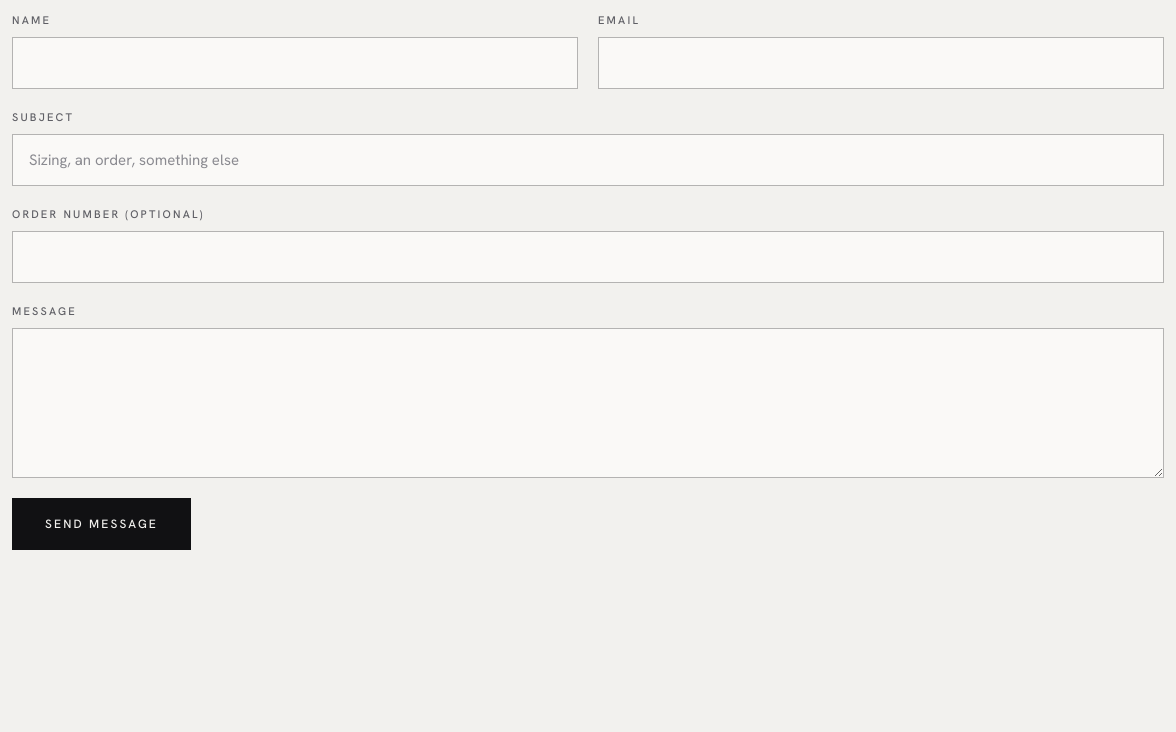
Test case: failure handling › alerts the visitor when the API rejects the message
The width and height of the screenshot is (1176, 732).
Type "Ada" into the field labelled "Name" at (295, 63), box [12, 36, 578, 89]
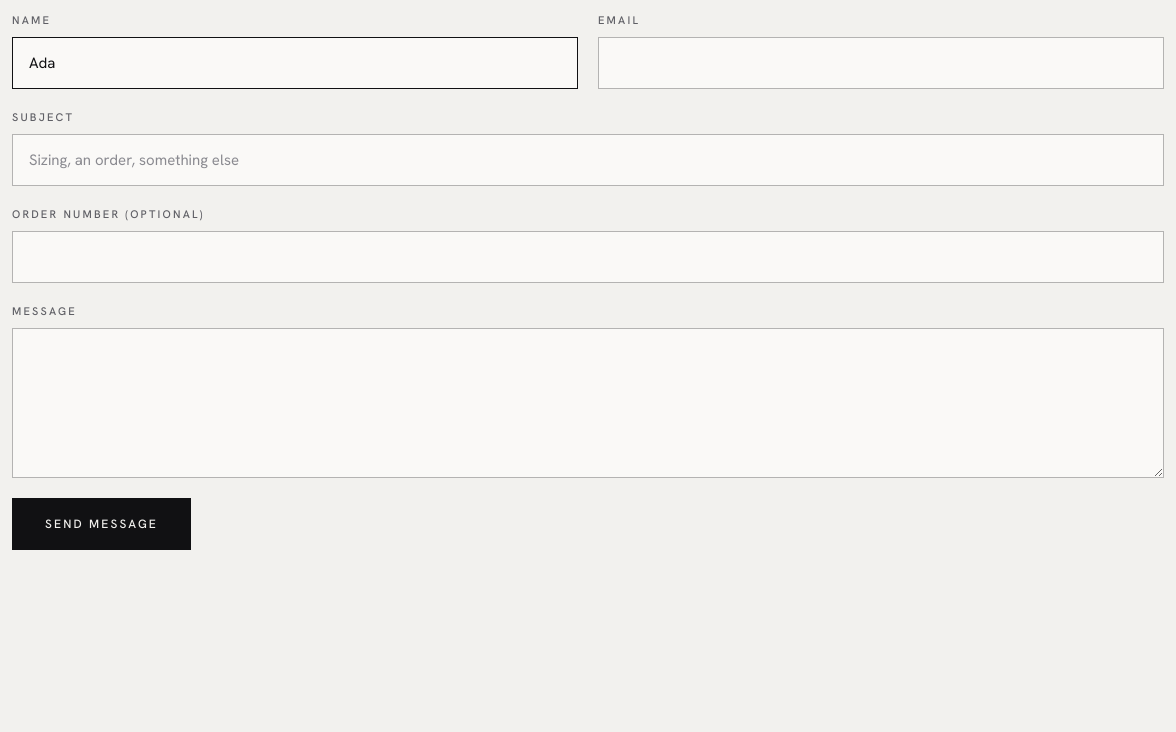
Type "ada@example.com" into the field labelled "Email" at (881, 63), box [598, 36, 1164, 89]
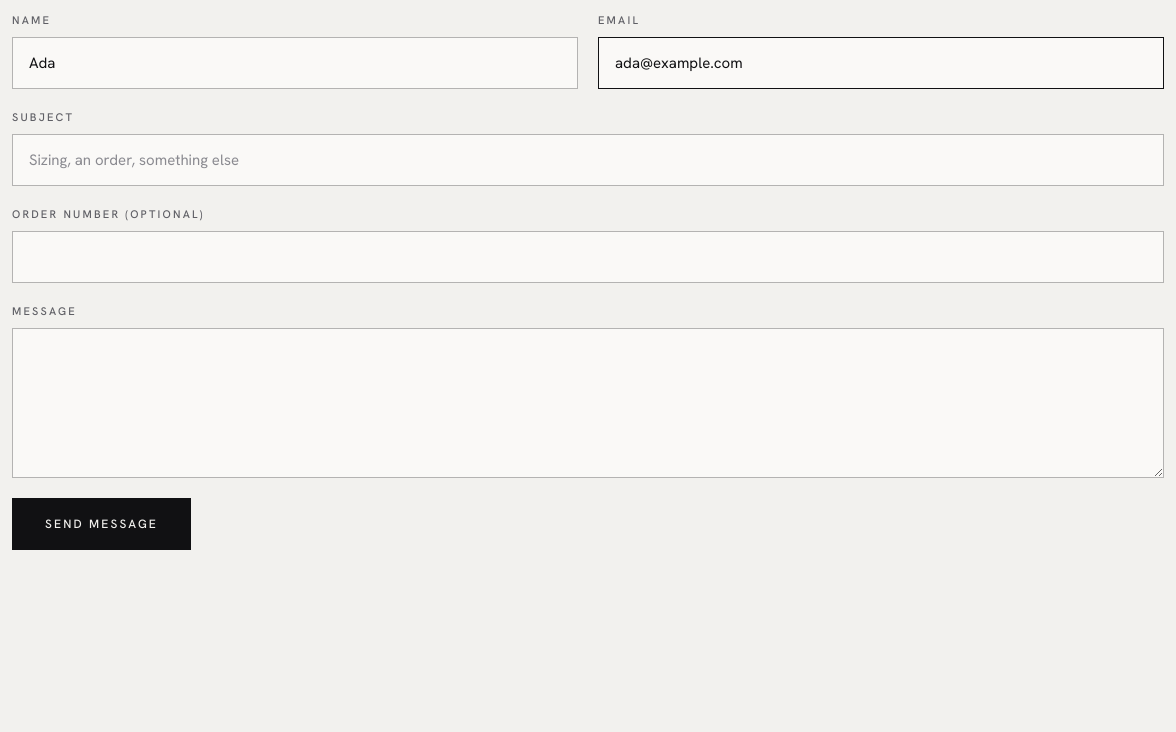
Type "Sizing" into the field labelled "Subject" at (588, 160), box [12, 134, 1164, 186]
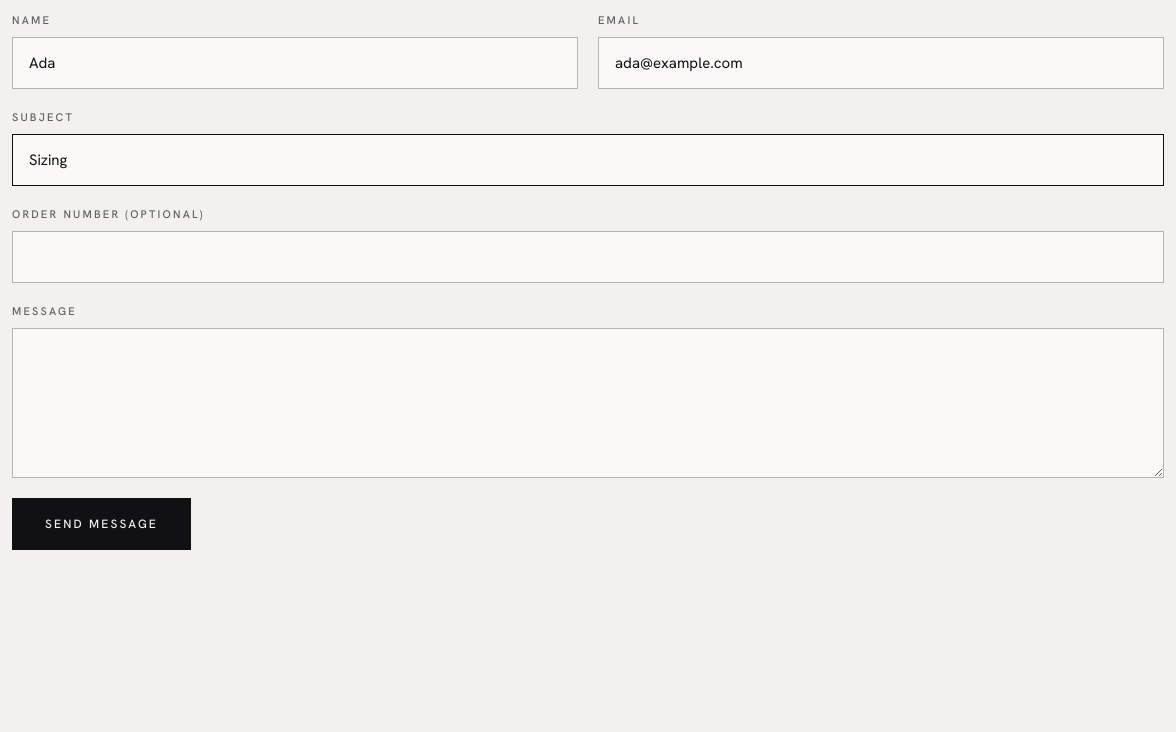
Type "A-1" into the field labelled "Order number (optional)" at (588, 257), box [12, 230, 1164, 283]
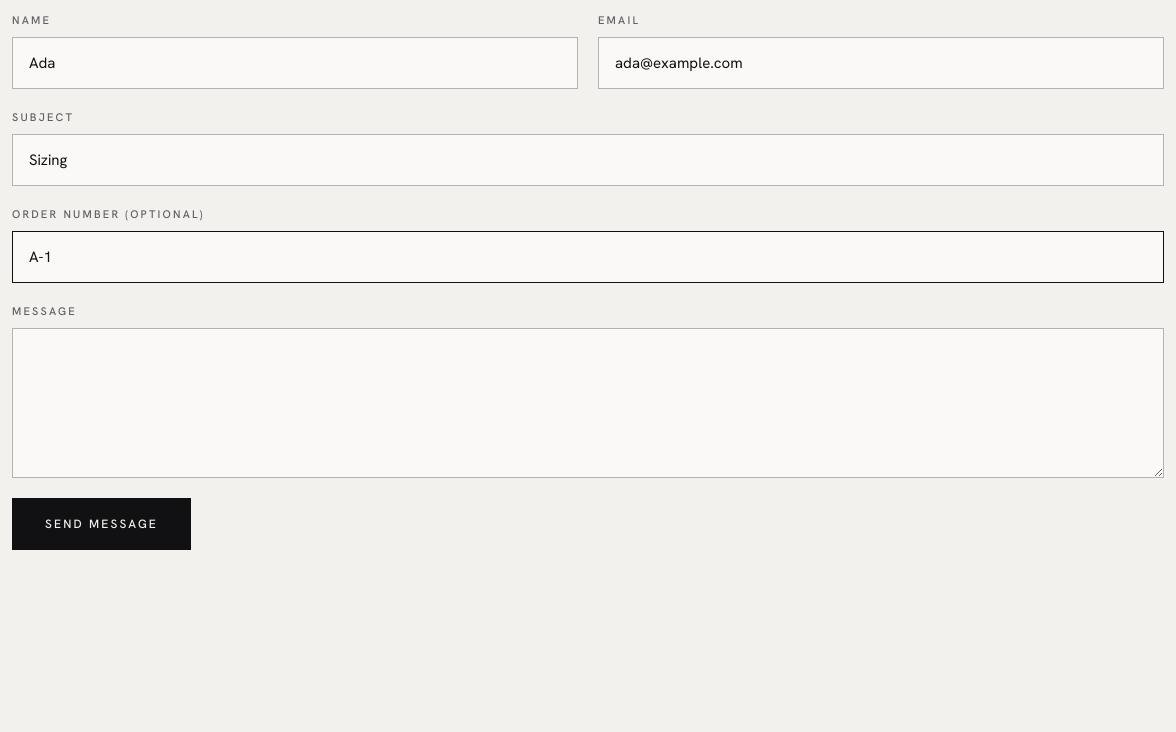
Type "Which size?" into the text box labelled "Message" at (588, 402), box [12, 328, 1164, 478]
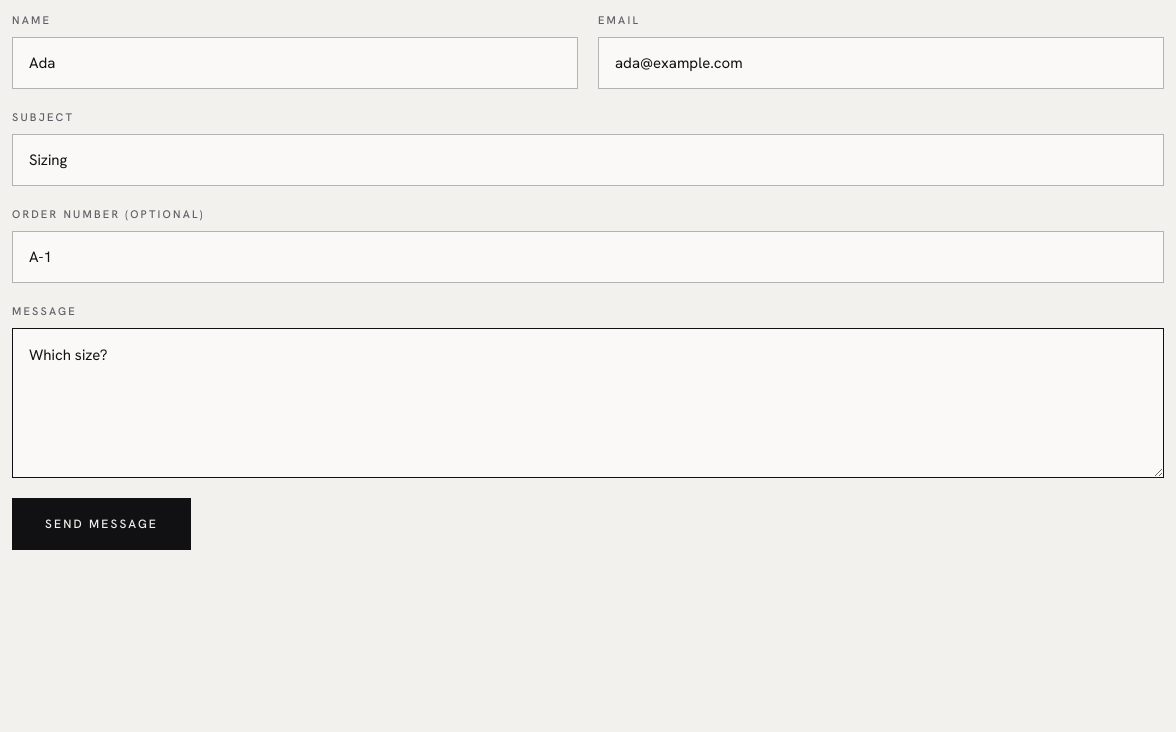
Click the button "Send message" at (102, 524), box [12, 498, 191, 550]
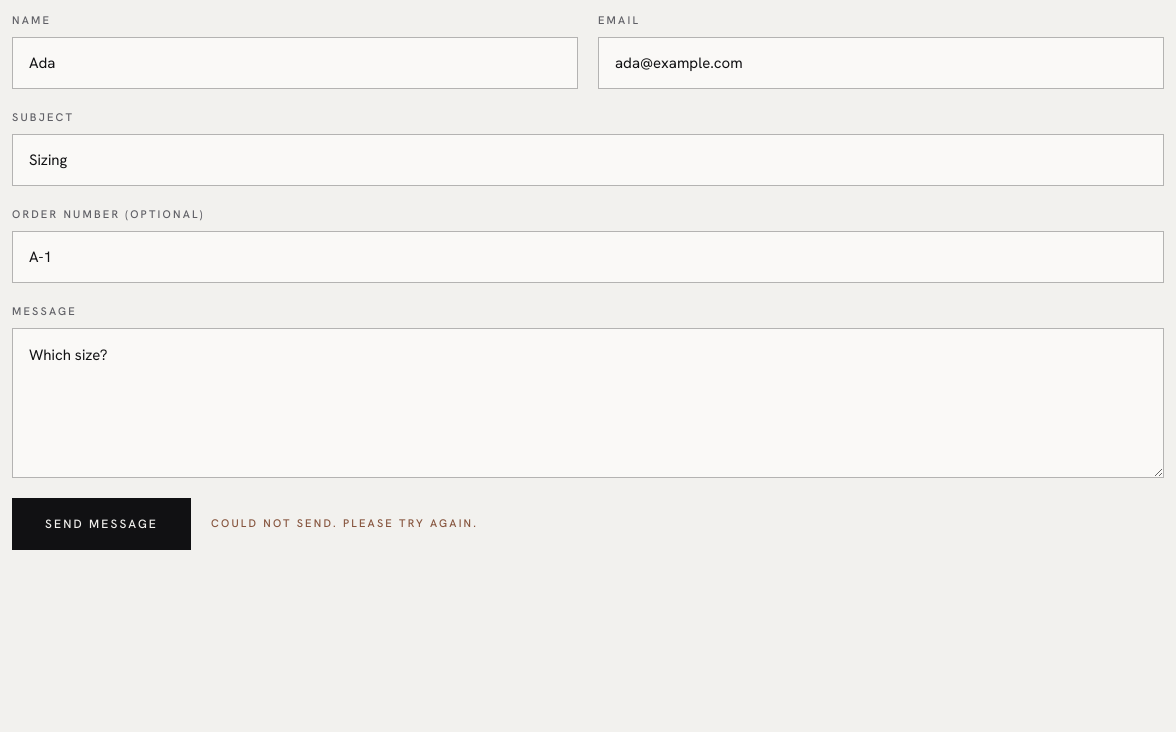
Now the message reads "Could not send. Please try again.", box [211, 516, 478, 530]
